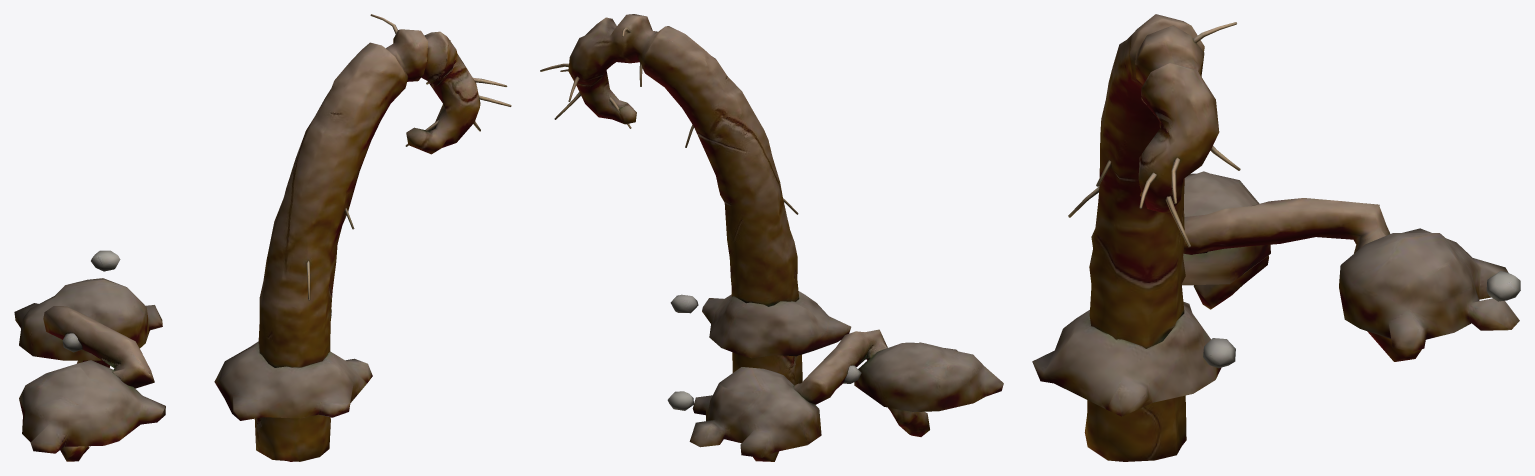
The model's file is rootlet.glb.
3 renders of one model, left to right at view 1: azimuth 30°, elevation 25°; view 2: azimuth 150°, elevation 25°; view 3: azimuth 270°, elevation 25°, orthographic. The views are drawn at different scales.
Visible parts, largest first — view 1: bark, soil, rock, rootlets; view 2: bark, soil, rock, rootlets; view 3: bark, soil, rock, rootlets.
Boxes of the visible parts, box(x1,y1,x2,y2) form: bark: box(43, 29, 480, 461); soil: box(14, 278, 372, 453); rock: box(62, 250, 331, 352); rootlets: box(306, 14, 511, 300); bark: box(568, 14, 929, 461); soil: box(689, 291, 1003, 457); rock: box(667, 294, 861, 410); rootlets: box(540, 27, 798, 214); bark: box(1084, 14, 1421, 461); soil: box(1032, 171, 1519, 416); rock: box(1203, 271, 1520, 368); rootlets: box(1068, 22, 1240, 247).
Size of the model in its own units: 0.4963 by 0.3777 by 0.3262.
Materials: 4 (4 with a texture image).
